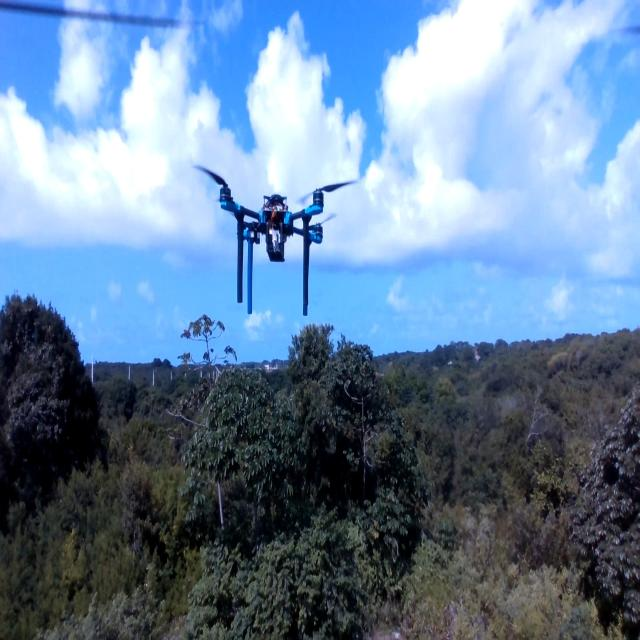-uav-: (182, 126, 366, 339)
